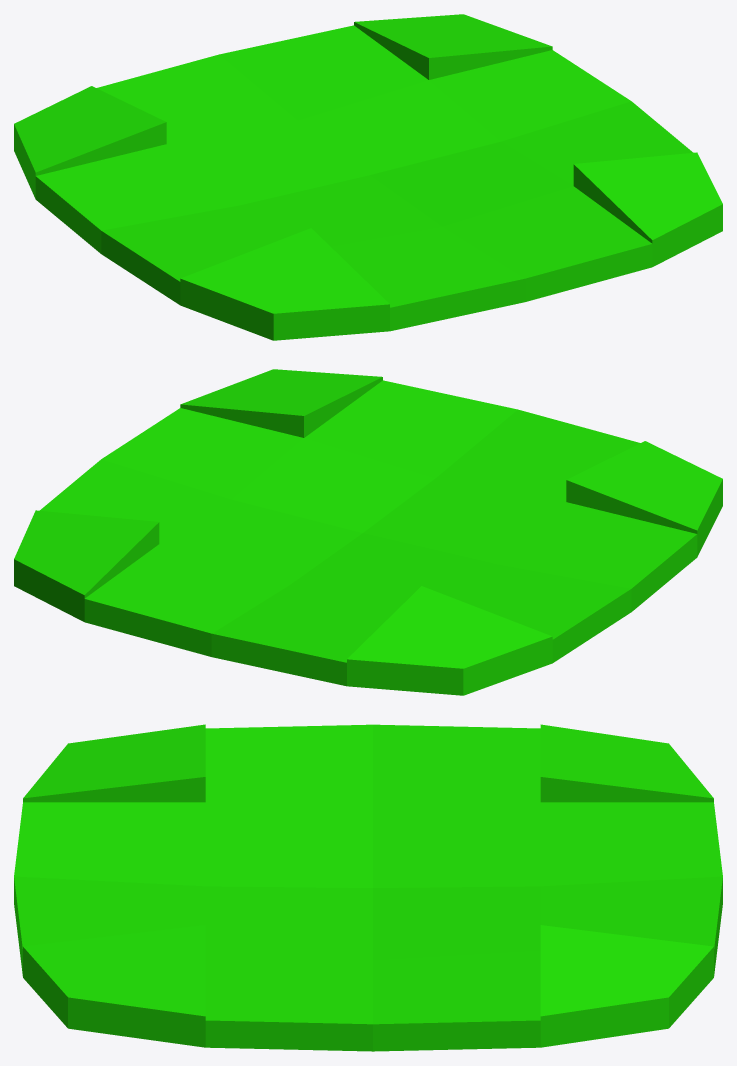
The model's file is healing point.fbx.
3 renders of one model, top to bottom at view 1: azimuth 30°, elevation 25°; view 2: azimuth 150°, elevation 25°; view 3: azimuth 270°, elevation 25°, orthographic. The views are drawn at different scales.
Visible parts, largest first — view 1: Cube; view 2: Cube; view 3: Cube.
Boxes of the visible parts, <box> form: Cube: <box>14,14,722,340</box>; Cube: <box>14,369,722,695</box>; Cube: <box>14,724,722,1051</box>.
Bounding box in the file's own units: 944 × 77.55 × 944.
